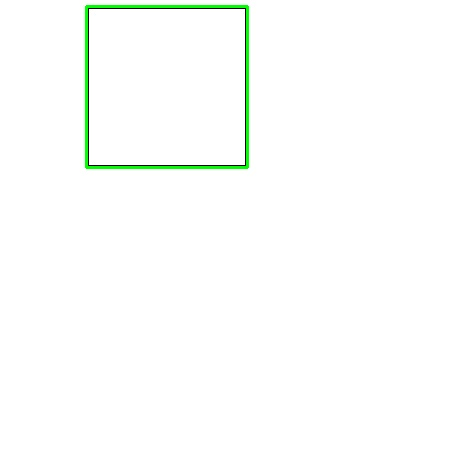line_segment: (85, 5, 249, 169)
